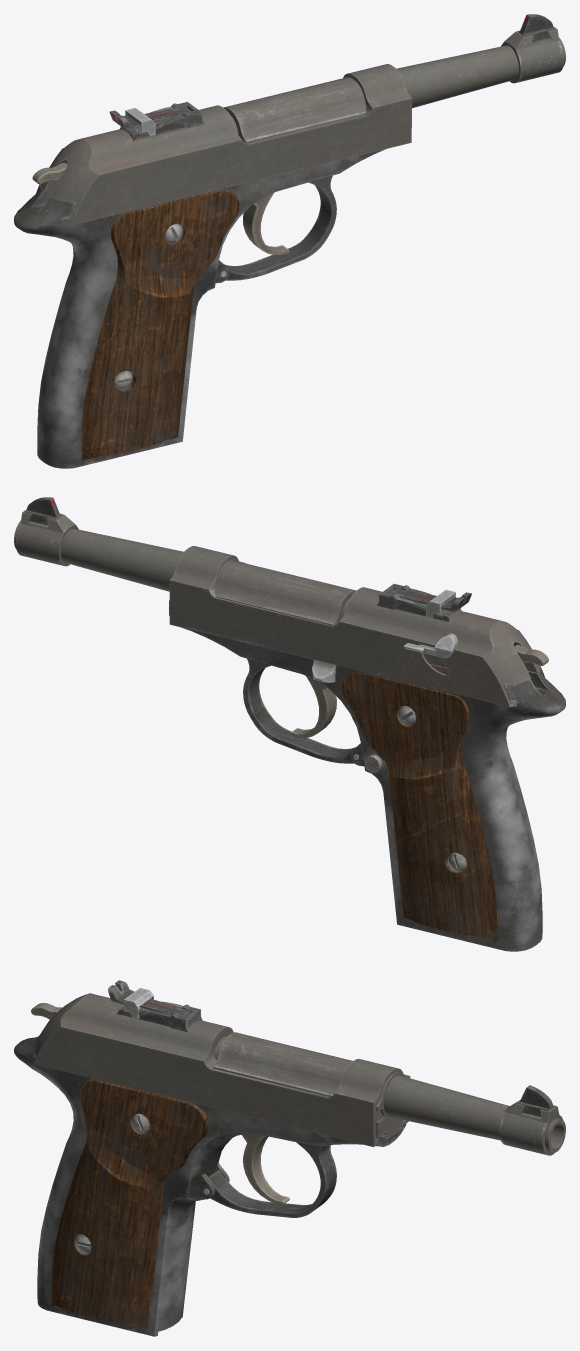
File: service_pistol_1k.gltf
The picture shows the model from 3 angles, top to bottom: view 1: azimuth 30°, elevation 25°; view 2: azimuth 150°, elevation 25°; view 3: azimuth 330°, elevation 25°; orthographic projection.
Visible parts, largest first — view 1: service_pistol_pistol_a, service_pistol_slide_a, service_pistol_trigger_a; view 2: service_pistol_pistol_a, service_pistol_slide_a, service_pistol_trigger_a; view 3: service_pistol_pistol_a, service_pistol_slide_a, service_pistol_trigger_a.
Boxes of the visible parts, x1,y1,x2,y2 form: service_pistol_pistol_a: [14, 14, 565, 468]; service_pistol_slide_a: [41, 64, 411, 225]; service_pistol_trigger_a: [243, 193, 289, 254]; service_pistol_pistol_a: [14, 497, 565, 951]; service_pistol_slide_a: [169, 546, 544, 707]; service_pistol_trigger_a: [290, 676, 336, 737]; service_pistol_pistol_a: [14, 1032, 565, 1336]; service_pistol_slide_a: [32, 980, 410, 1146]; service_pistol_trigger_a: [242, 1134, 289, 1204].
Size of the model in its own units: 0.2219 by 0.1295 by 0.0318.
Materials: 1 (1 with a texture image).
